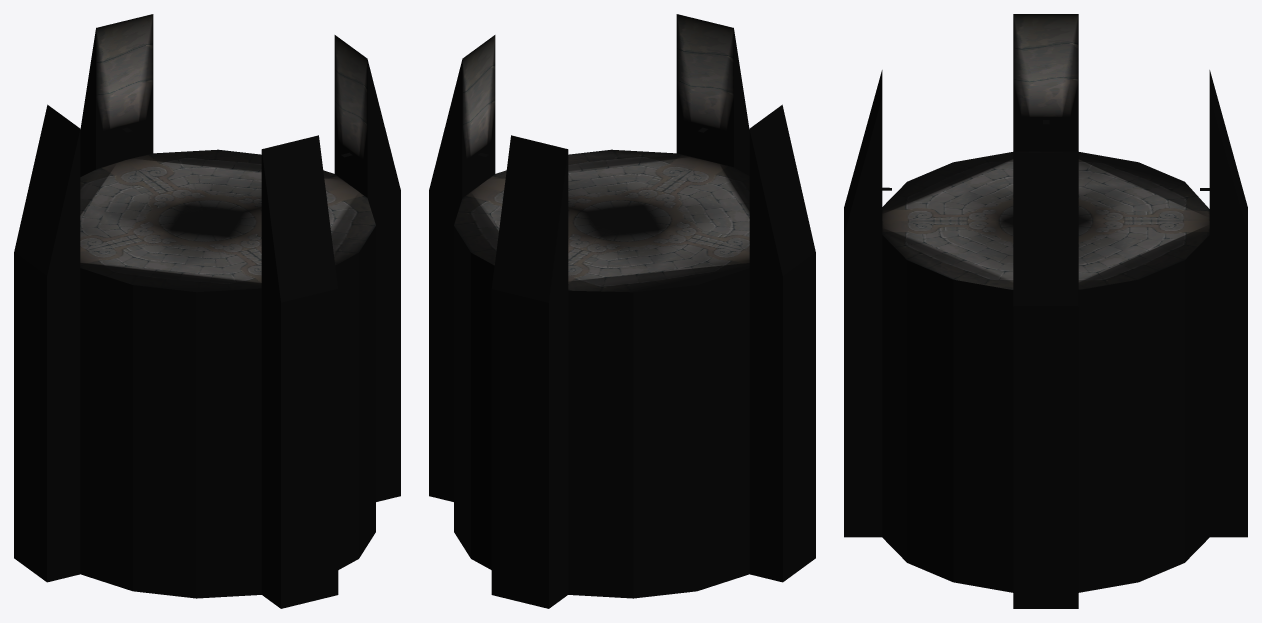
Rendered from Arena.glb.
3 renders of one model, left to right at view 1: azimuth 30°, elevation 25°; view 2: azimuth 150°, elevation 25°; view 3: azimuth 270°, elevation 25°, orthographic.
Parts seen in each view (by area): view 1: Arena; view 2: Arena; view 3: Arena.
Part boxes in pixels (left/top/right/bottom): Arena: left=14, top=14, right=400, bottom=608; Arena: left=429, top=14, right=815, bottom=608; Arena: left=844, top=14, right=1247, bottom=608.
Size of the model in its own units: 2.42 by 2.91 by 2.42.
1 material, 1 textured.
